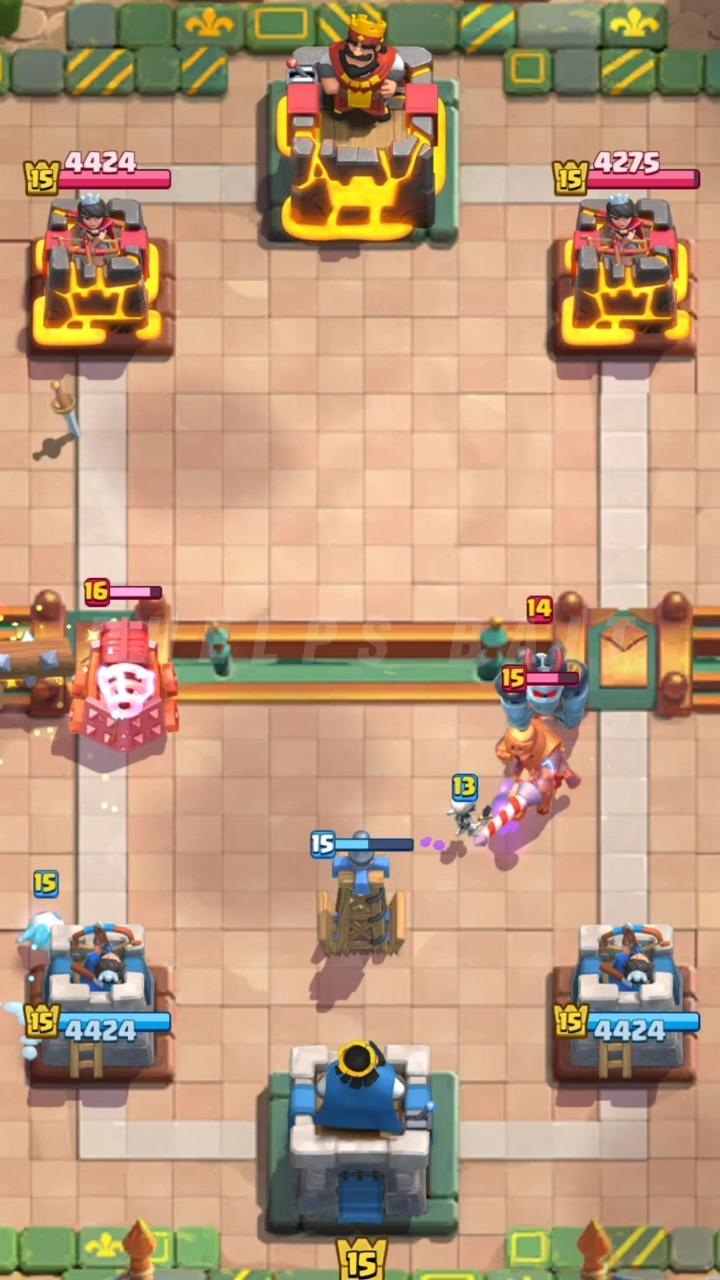ice spirit: (17, 911, 63, 951)
log: (0, 636, 74, 681)
mega minion: (494, 644, 588, 728)
prince: (475, 716, 580, 845)
skeleton: (447, 799, 490, 837)
sparky: (71, 619, 177, 755)
tesla: (318, 830, 404, 955)
